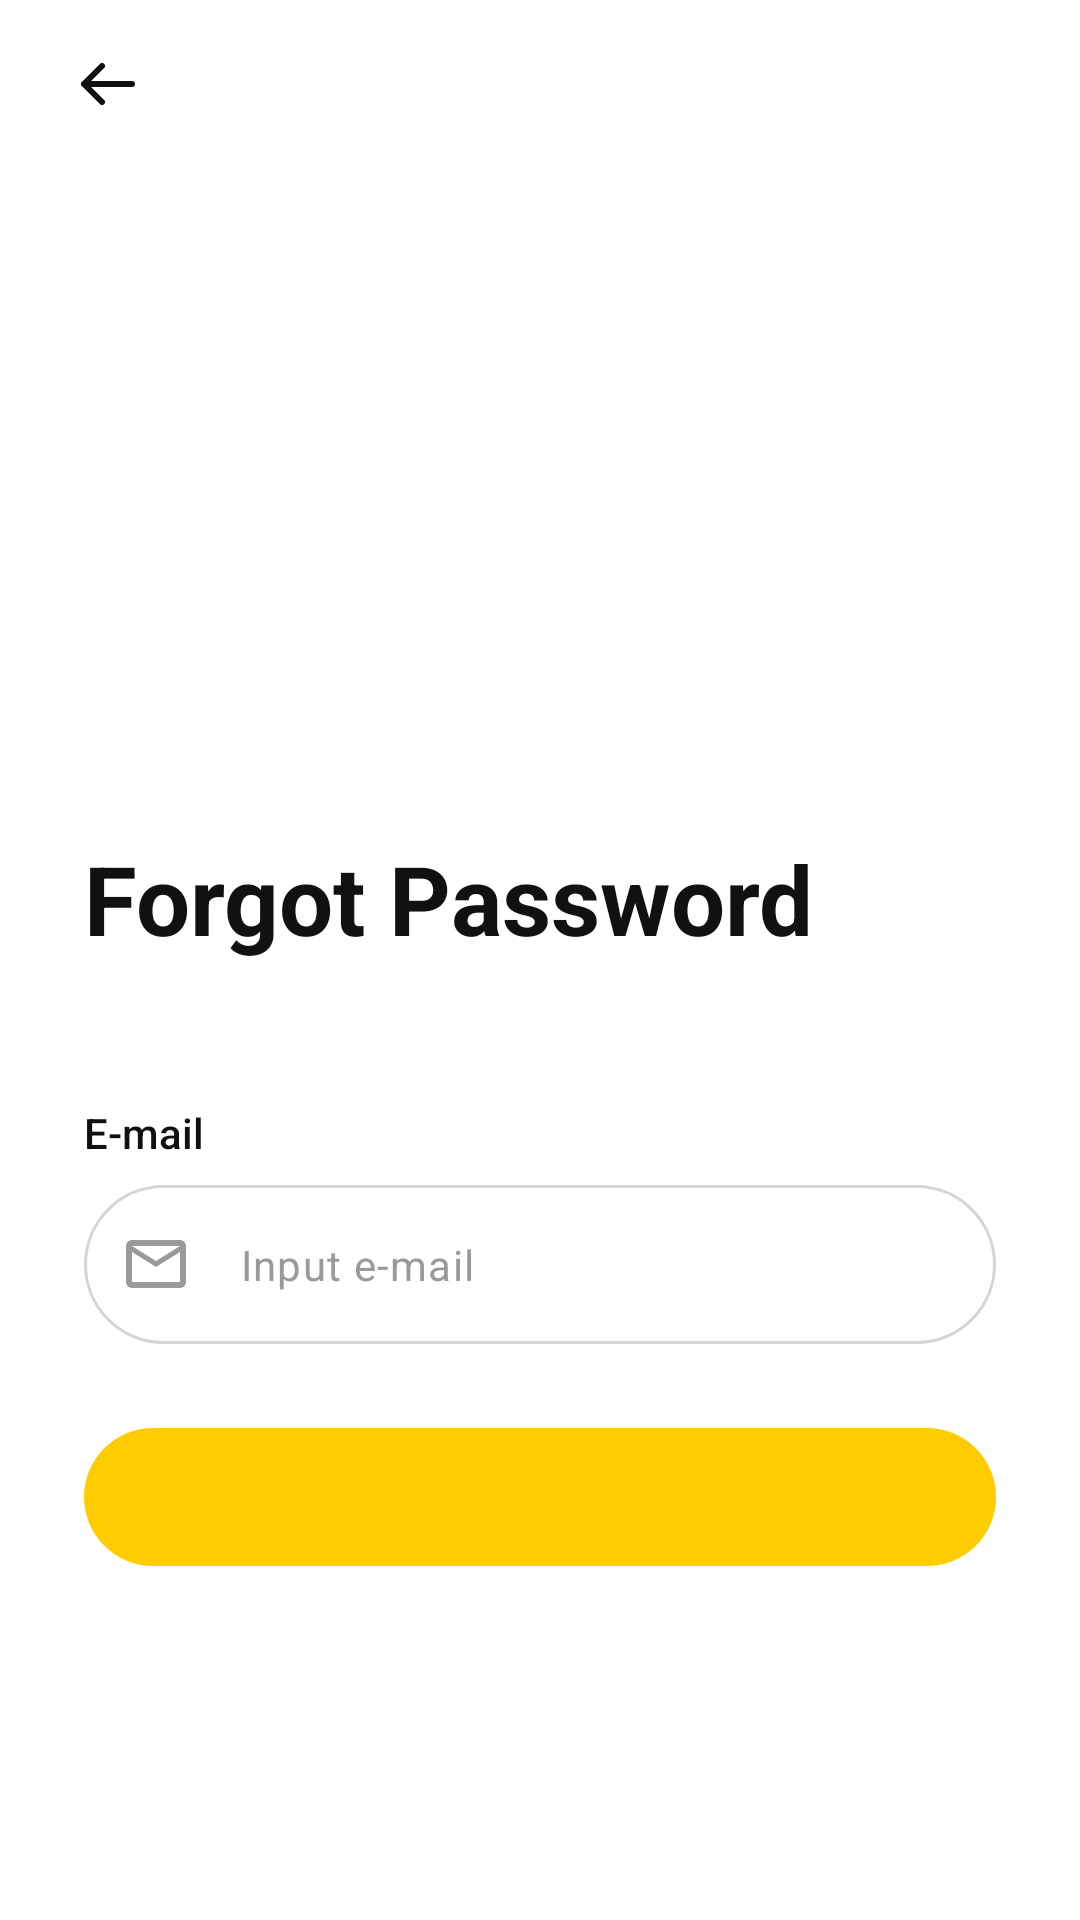

Screen size 1080px×1920px. Icon name, then its box in pixels as (x1, y1, x2, y2):
Back: (81, 63, 135, 105)
